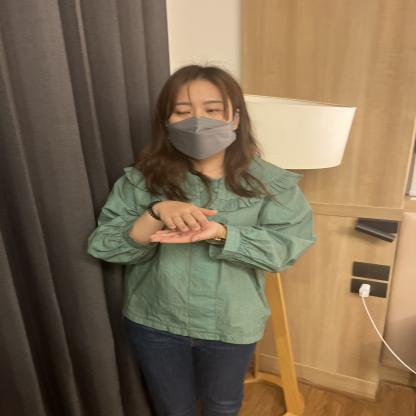Love: (73, 142, 270, 290)
